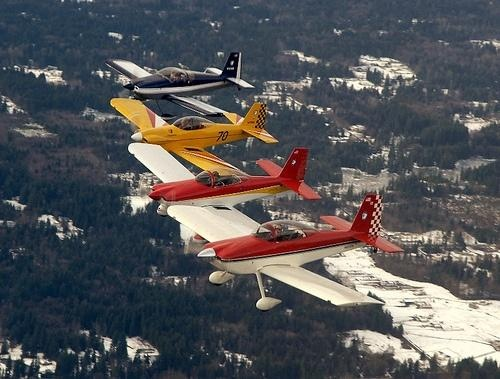aeroplane: (167, 194, 408, 313), (126, 142, 323, 236), (110, 95, 280, 176), (106, 50, 256, 122)
